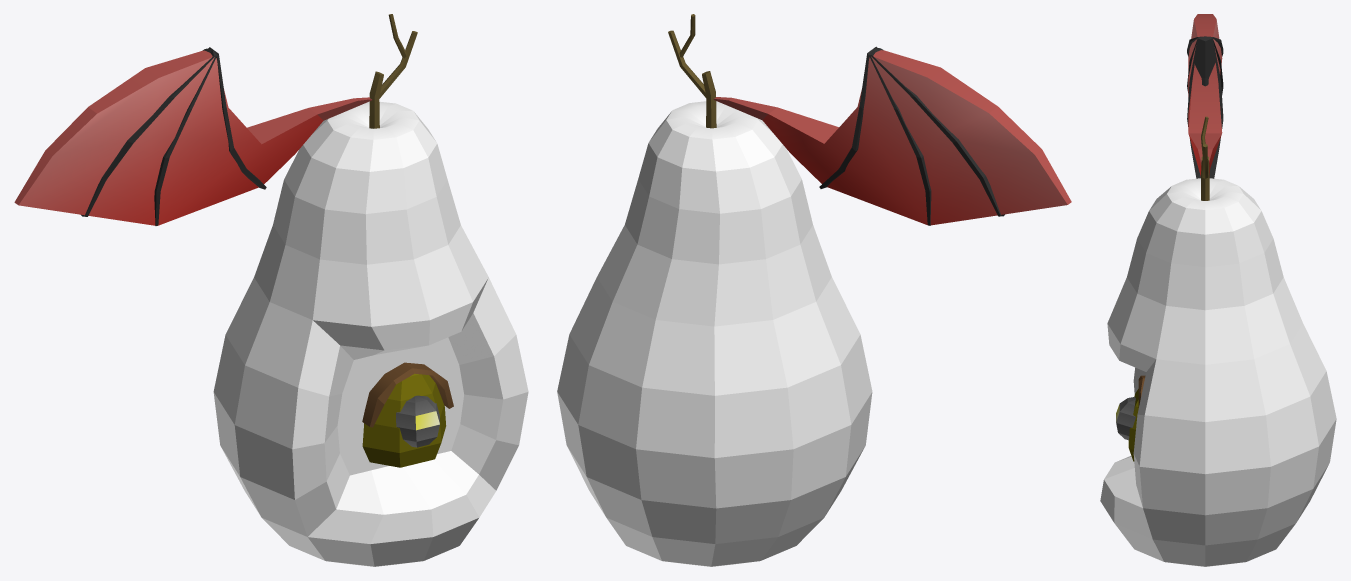
File: SM_AvocadoMonster_01.fbx
3 views of the same model, side by side, from view 1: azimuth 30°, elevation 25°; view 2: azimuth 150°, elevation 25°; view 3: azimuth 270°, elevation 25° (orthographic). The views are drawn at different scales.
Visible parts, largest first — view 1: SM_AvocadoMonster_01; view 2: SM_AvocadoMonster_01; view 3: SM_AvocadoMonster_01.
Part boxes in pixels (x1,y1,x2,y2): SM_AvocadoMonster_01: [14, 14, 528, 566]; SM_AvocadoMonster_01: [557, 14, 1071, 566]; SM_AvocadoMonster_01: [1100, 14, 1336, 566].
Bounding box in the file's own units: 13.95 × 14.74 × 6.97.
